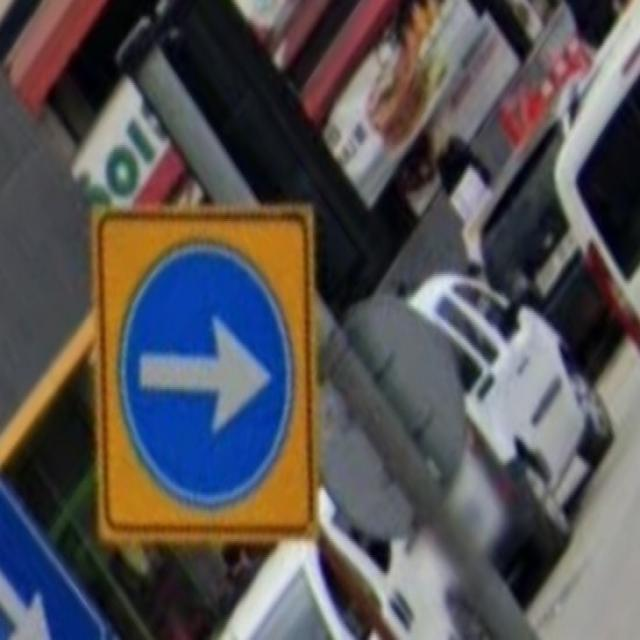Turn Right: (122, 245, 288, 510)
